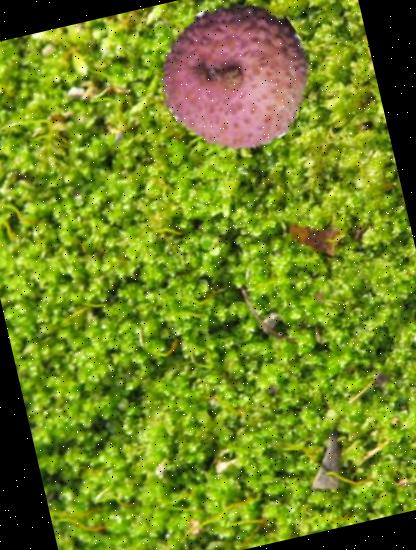Lychee: (147, 0, 327, 166)
